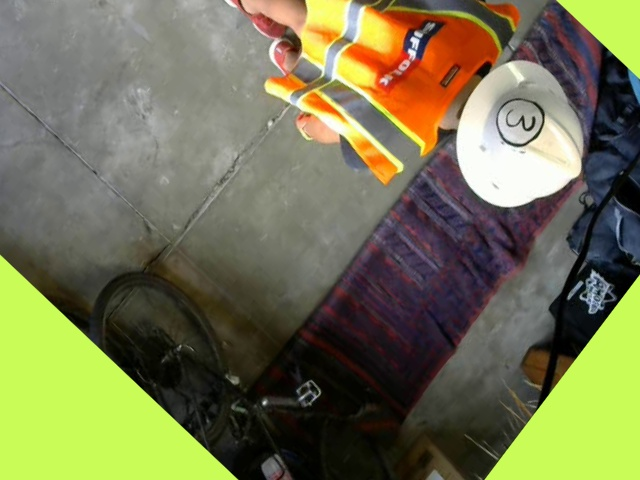three: (487, 85, 552, 158)
